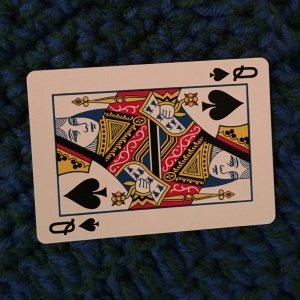card: (23, 56, 276, 244)
